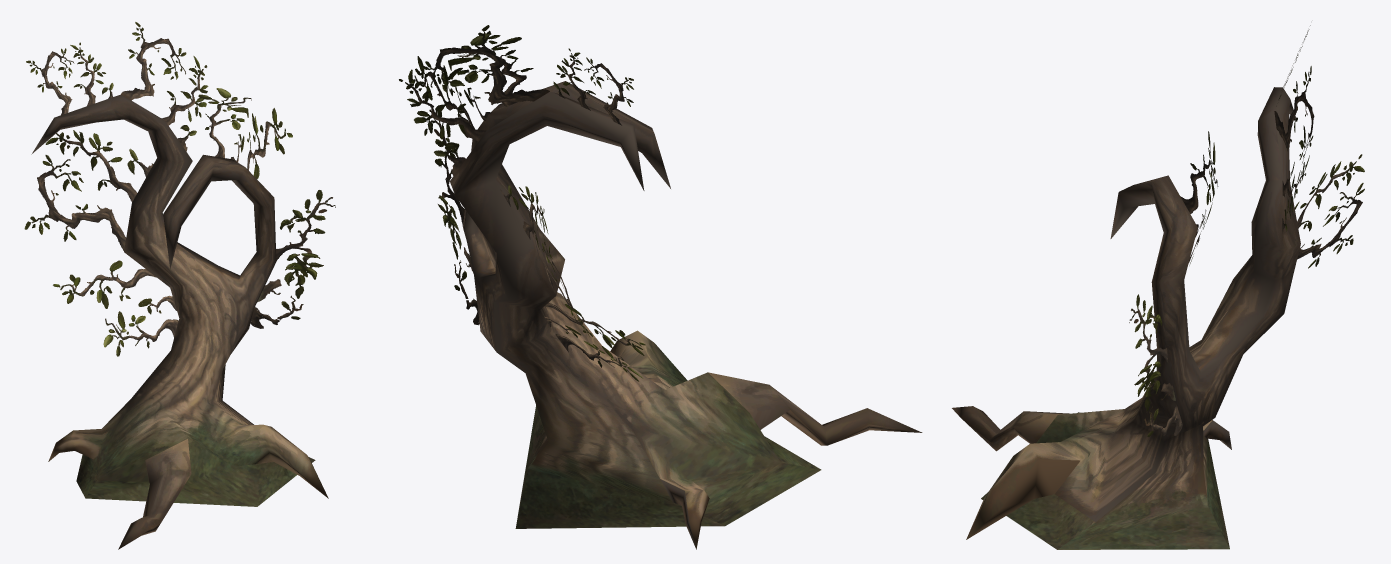
The model's file is plants_gnarled_tree_trunks01.fbx.
3 views of the same model, side by side, from view 1: azimuth 30°, elevation 25°; view 2: azimuth 150°, elevation 25°; view 3: azimuth 270°, elevation 25° (orthographic). The views are drawn at different scales.
Visible parts, largest first — view 1: Material_#238682934/fancy_tree; view 2: Material_#238682934/fancy_tree; view 3: Material_#238682934/fancy_tree.
Boxes of the visible parts, box(x1,y1,x2,y2) form: Material_#238682934/fancy_tree: box(24, 22, 335, 549); Material_#238682934/fancy_tree: box(399, 25, 922, 549); Material_#238682934/fancy_tree: box(952, 25, 1364, 549).
Size of the model in its own units: 6.05 by 8.06 by 6.35.
